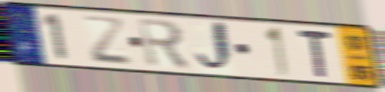1: (42, 13, 71, 62), (265, 24, 290, 80)
J: (194, 19, 238, 76)
R: (136, 16, 193, 72)
T: (295, 27, 334, 80)
Z: (81, 13, 133, 67)
